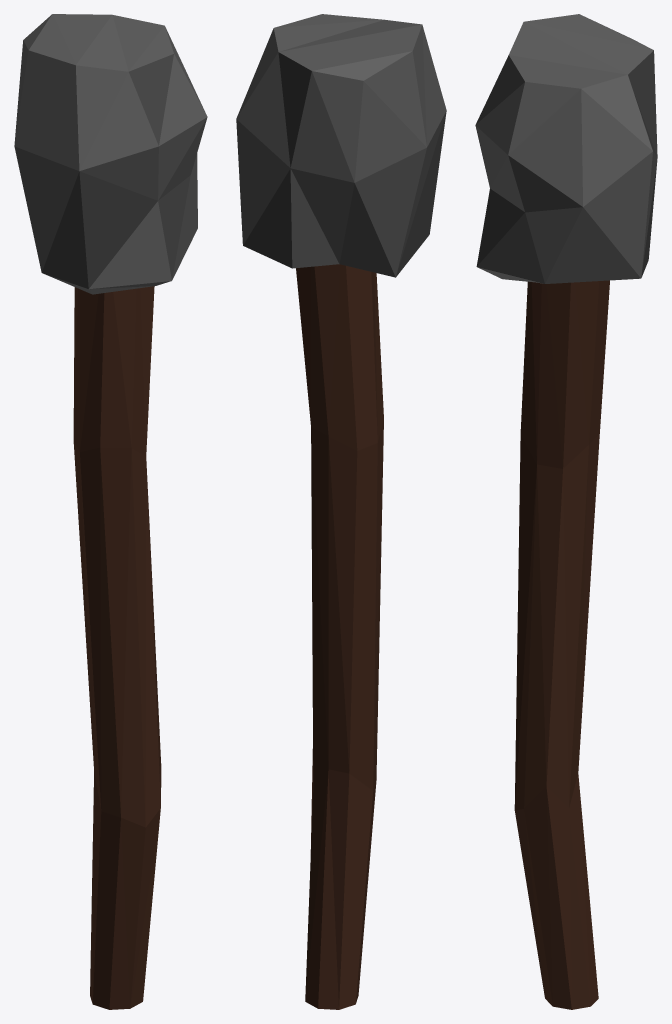
Rendered from Torch_mat.fbx.
The picture shows the model from 3 angles, left to right: view 1: azimuth 30°, elevation 25°; view 2: azimuth 150°, elevation 25°; view 3: azimuth 270°, elevation 25°; orthographic projection. The views are drawn at different scales.
Visible parts, largest first — view 1: Torch_mat; view 2: Torch_mat; view 3: Torch_mat.
Boxes of the visible parts, <box> form: Torch_mat: <box>14,14,207,1009</box>; Torch_mat: <box>236,14,446,1009</box>; Torch_mat: <box>475,14,657,1009</box>.
Size of the model in its own units: 11.1 by 55.63 by 9.71.
